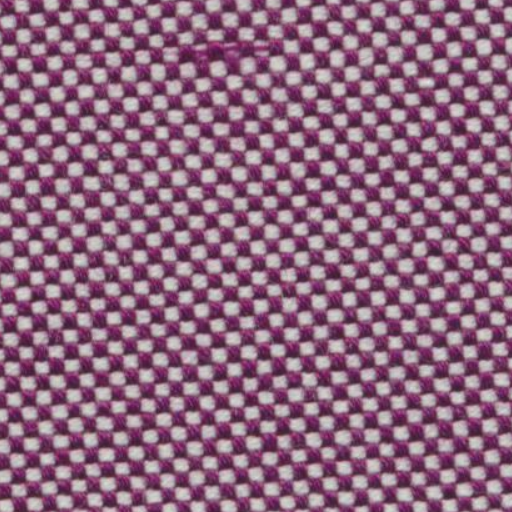DuanSha: (161, 30, 300, 72)
